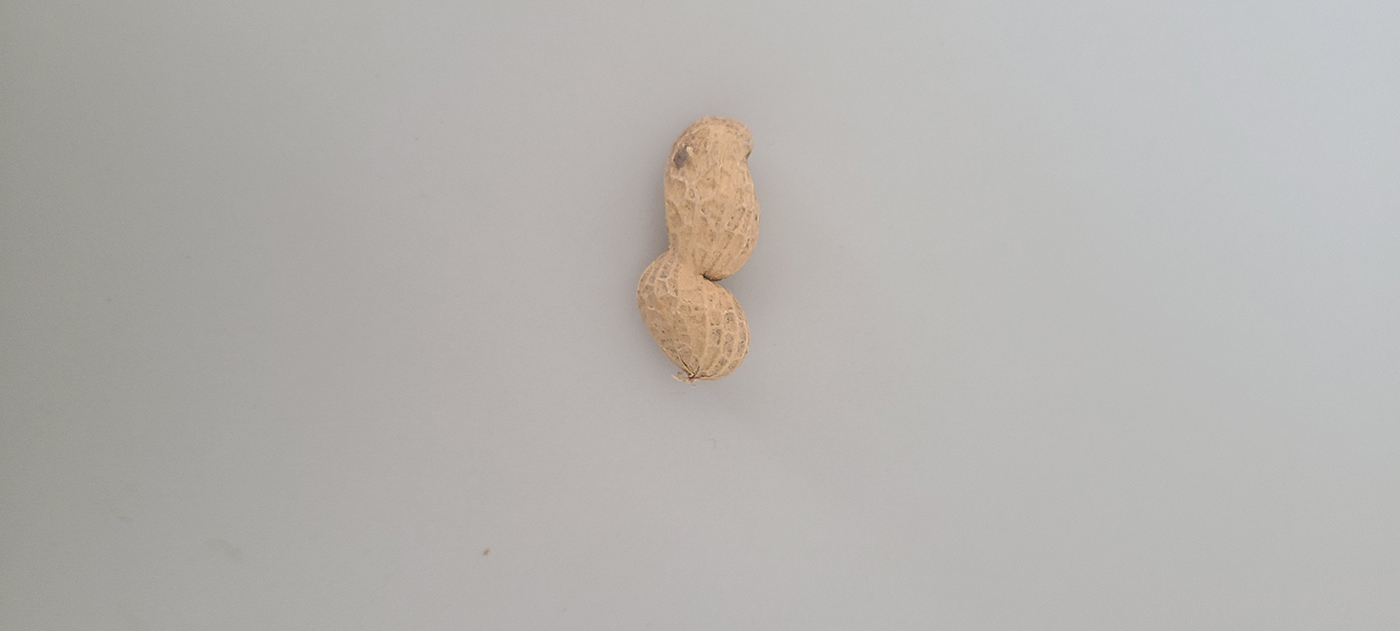h: (636, 116, 763, 381)
